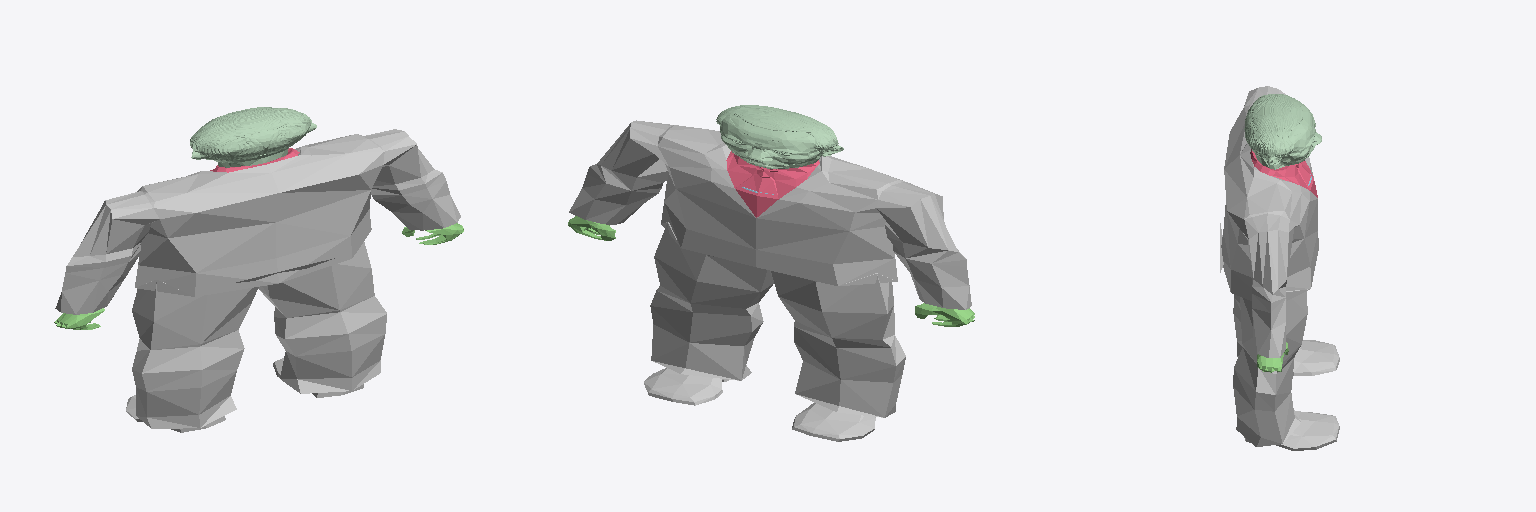
File: Wide_Normal.obj
3 renders of one model, left to right at view 1: azimuth 30°, elevation 25°; view 2: azimuth 150°, elevation 25°; view 3: azimuth 270°, elevation 25°, orthographic.
Visible parts, largest first — view 1: body_suit_ref1.004, leftLeg_ref1.008, rightLeg_ref1.009, leftArm2_ref1.006, rightArm2_ref1.007, head_ref1.001, leftArm_ref1.005, rightArm_ref1; view 2: body_suit_ref1.004, leftLeg_ref1.008, rightLeg_ref1.009, leftArm2_ref1.006, rightArm2_ref1.007, head_ref1.001, body_tie_ref1.002, leftArm_ref1.005, rightArm_ref1; view 3: body_suit_ref1.004, rightLeg_ref1.009, rightArm2_ref1.007, head_ref1.001, leftLeg_ref1.008, body_tie_ref1.002.
Part boxes in pixels (x1,y1,x2,y2): body_suit_ref1.004: (135, 134, 384, 296); leftLeg_ref1.008: (126, 281, 258, 432); rightLeg_ref1.009: (258, 242, 386, 397); leftArm2_ref1.006: (55, 191, 158, 314); rightArm2_ref1.007: (358, 129, 460, 230); head_ref1.001: (190, 107, 316, 167); leftArm_ref1.005: (54, 308, 104, 329); rightArm_ref1: (402, 223, 463, 244); body_suit_ref1.004: (654, 125, 902, 285); leftLeg_ref1.008: (771, 271, 905, 441); rightLeg_ref1.009: (644, 222, 773, 405); leftArm2_ref1.006: (877, 180, 971, 309); rightArm2_ref1.007: (569, 120, 673, 224); head_ref1.001: (716, 105, 843, 168); body_tie_ref1.002: (726, 151, 819, 217); leftArm_ref1.005: (915, 303, 974, 326); rightArm_ref1: (568, 216, 615, 240); body_suit_ref1.004: (1221, 106, 1318, 300); rightLeg_ref1.009: (1233, 291, 1339, 450); rightArm2_ref1.007: (1240, 211, 1293, 357); head_ref1.001: (1244, 94, 1321, 169); leftLeg_ref1.008: (1233, 295, 1339, 375); body_tie_ref1.002: (1250, 149, 1317, 197).
Size of the model in its own units: 56.86 by 38.14 by 14.57.